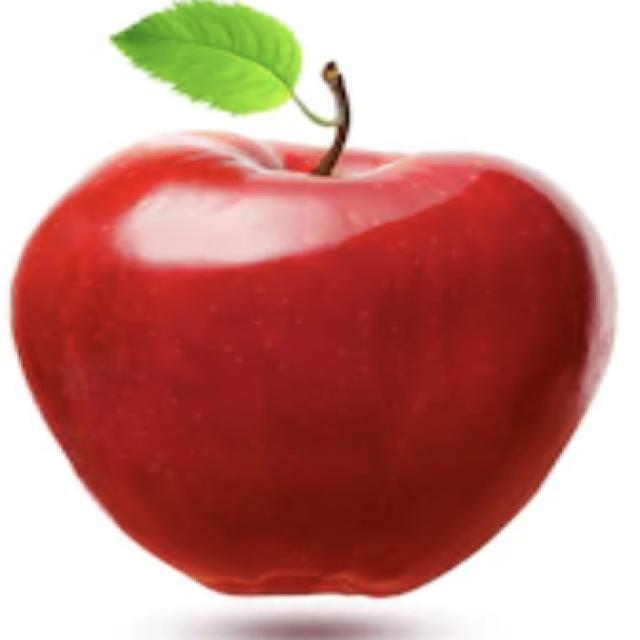Apple: (8, 59, 619, 599)
